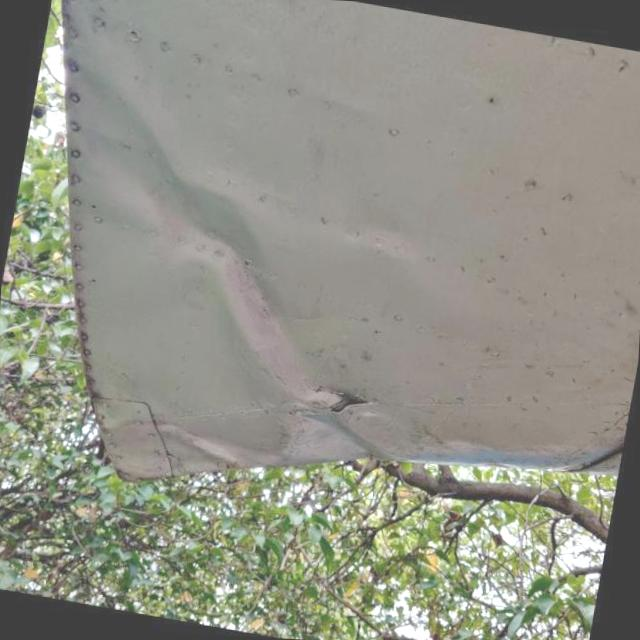dent: (58, 30, 338, 413), (104, 412, 265, 471)
